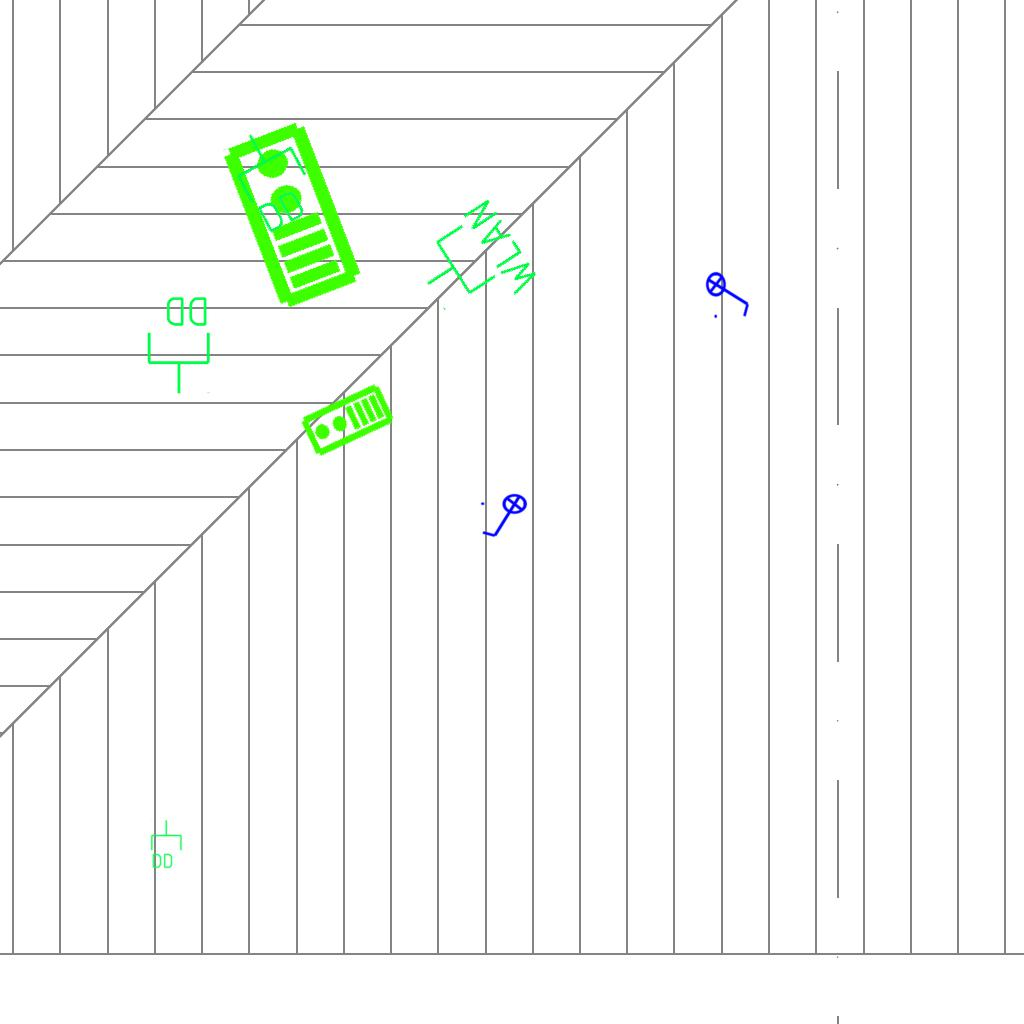Ausschalter_beleuchtet: (705, 265, 753, 321), (478, 493, 534, 541)
Datenanschluss_zweifach: (217, 116, 328, 241), (145, 293, 214, 396), (149, 819, 183, 870)
Gegensprechanlage_mit_Video: (214, 115, 367, 315), (297, 381, 398, 461)
WLAN: (401, 193, 547, 338)
